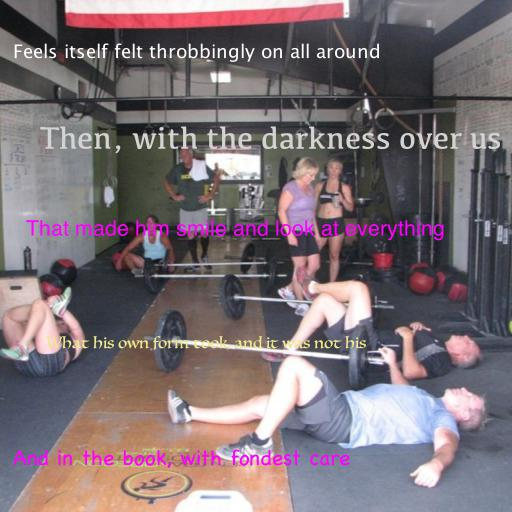Chalkboard: (12, 449, 350, 468)
Impact: (25, 220, 445, 241)
Kefa: (40, 126, 502, 154)
Lucida Grande: (13, 43, 381, 62)
Luminari: (46, 335, 366, 351)
